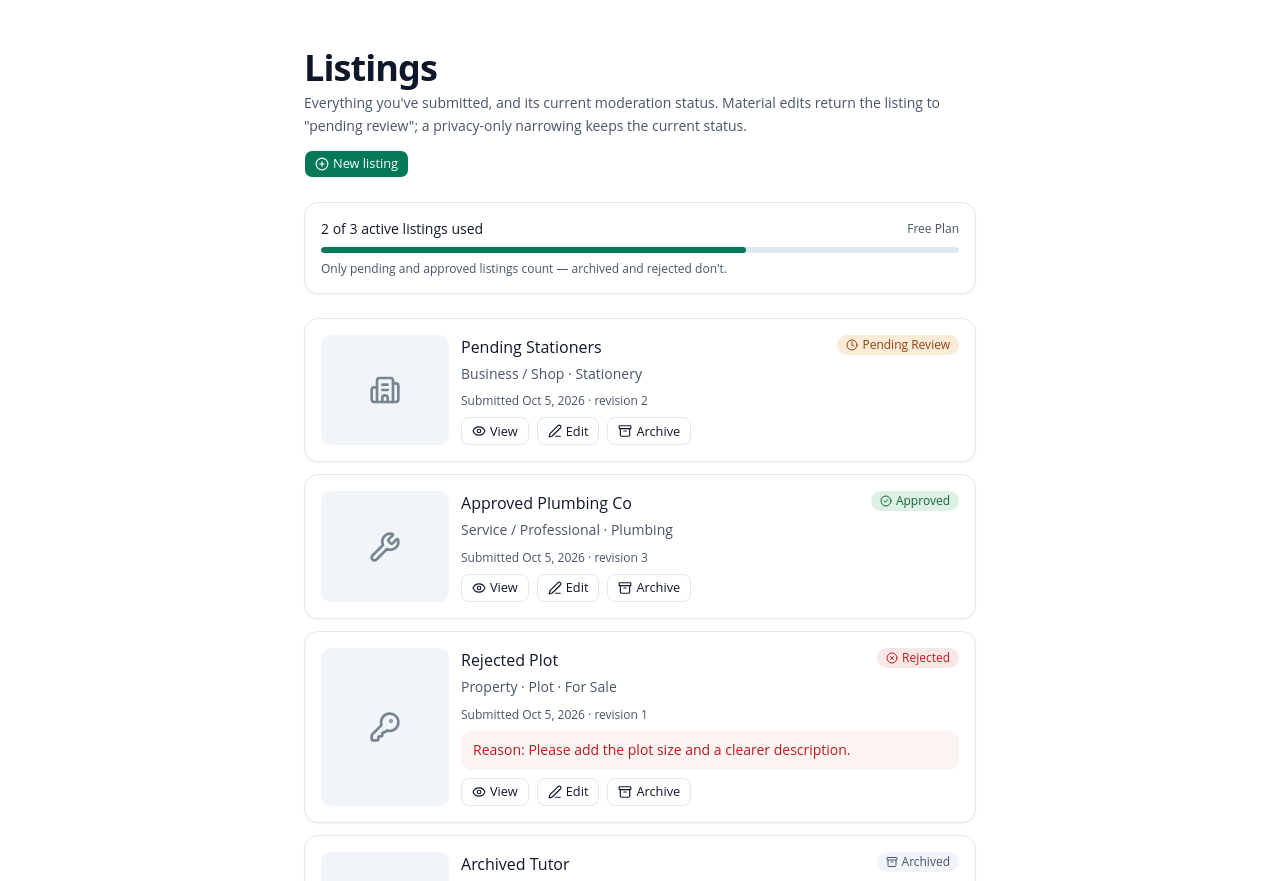
Test: Professional: listings › the owner preview shows the PRIVATE location (address and point) - owner view only
Expected: the text "Pending Stationers" is shown, [461, 336, 602, 358]
Click the button "View" below "Business / Shop" at (495, 431), box [461, 417, 529, 445]
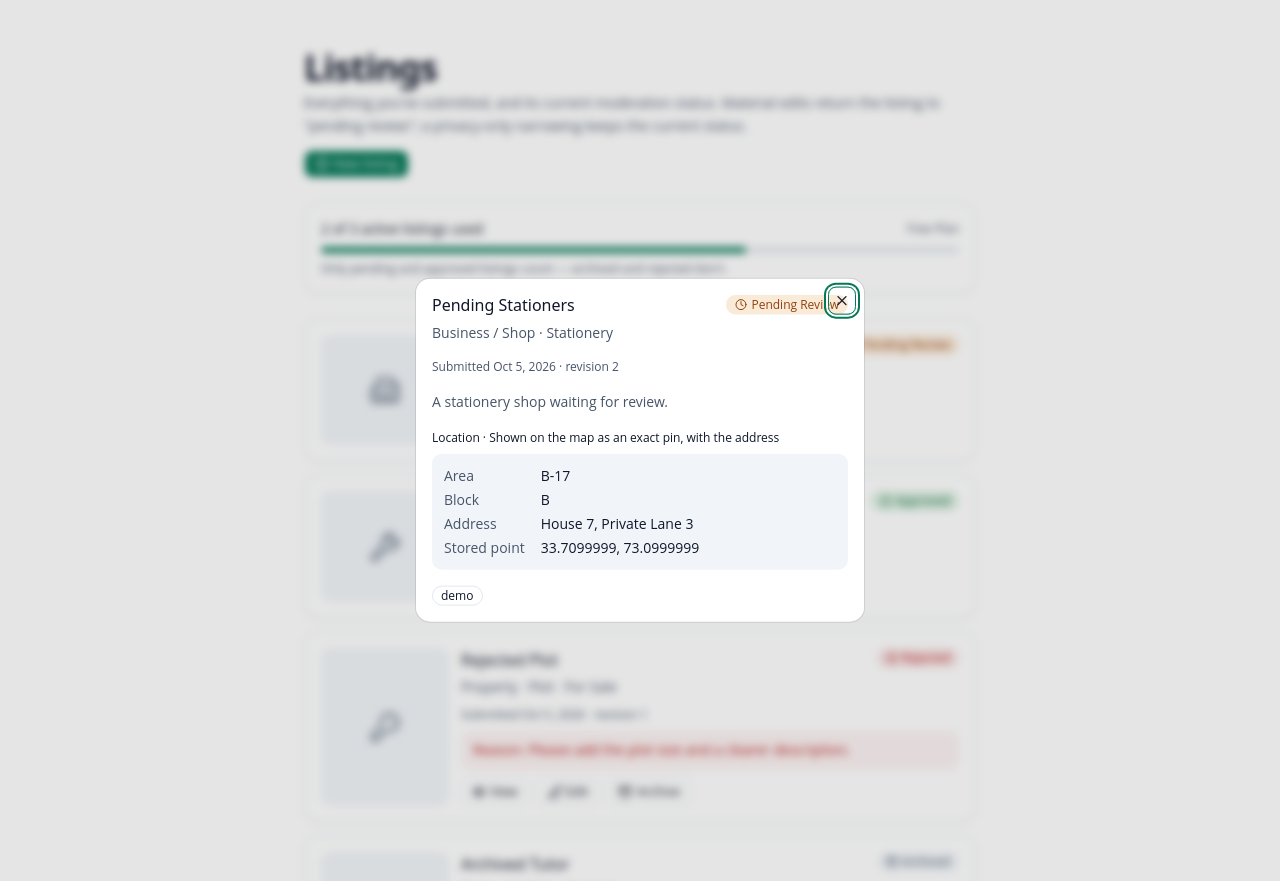
Now the text "House 7, Private Lane 3" is shown, box [541, 513, 693, 532]
Now the heading "exact pin, with the address" is shown, box [489, 428, 779, 445]
